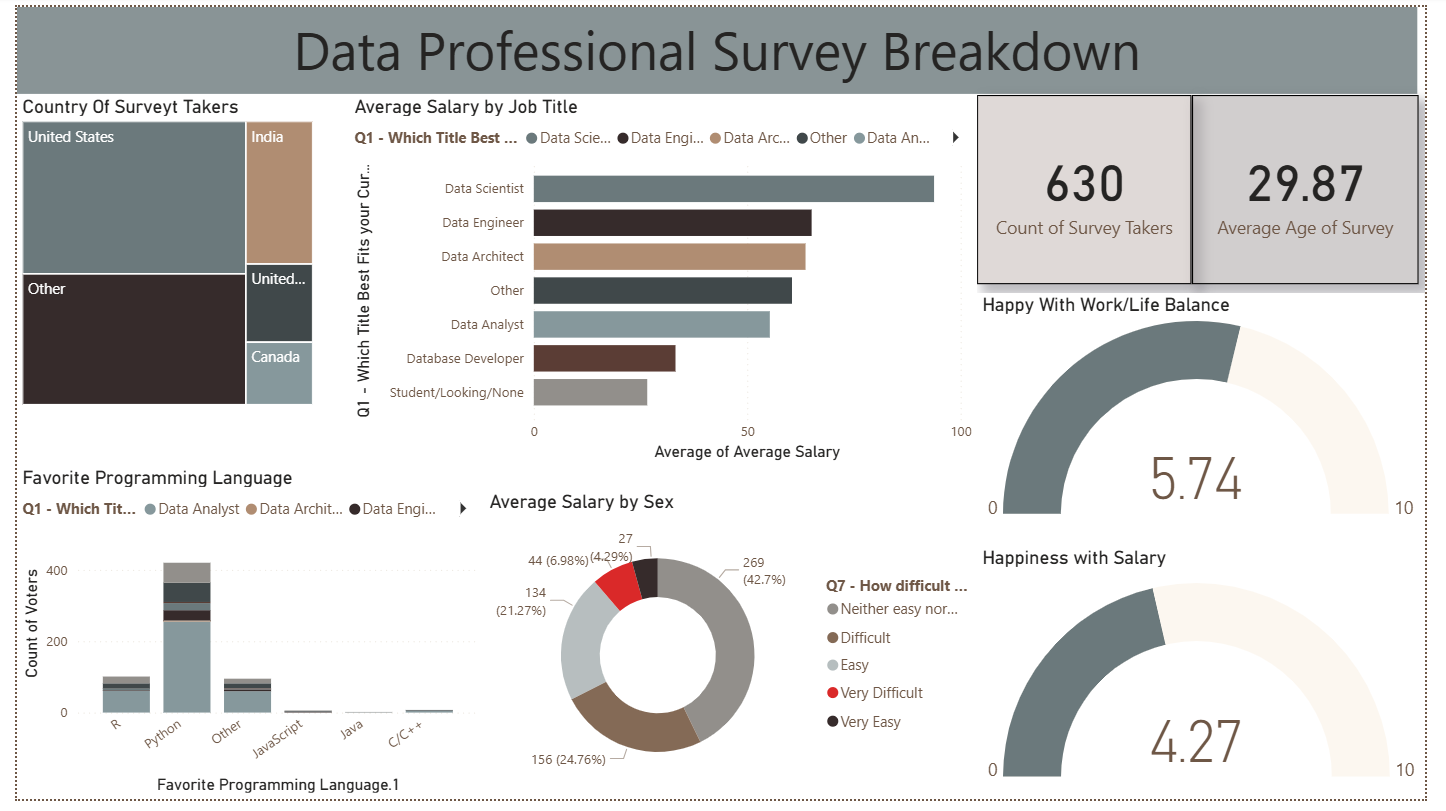

This screenshot's page, from the dashboard's own definition file:
{"tool":"powerbi","page":{"name":"Page 1","canvas":[1280,720],"ordinal":0},"visuals":[{"type":"textbox","box":[0,0,1272.7,79.4],"z":0},{"type":"card","fields":{"Values":["Count(Data Professional Survey.Unique ID)"]},"box":[872.4,79.6,195.3,171.9],"z":1000},{"type":"card","fields":{"Values":["Avg(Data Professional Survey.Q10 - Current Age)"]},"box":[1067.7,79.6,205.9,171.9],"z":2000},{"type":"barChart","title":"Average Salary by Job Title","fields":{"Category":["Data Professional Survey.Q1 - Which Title Best Fits your Current Role?.1"],"Y":["Avg(Data Professional Survey.Average Salary)"],"Series":["Data Professional Survey.Q1 - Which Title Best Fits your Current Role?.1"]},"box":[301.4,79.6,571,337.5],"z":3000},{"type":"columnChart","title":"Favorite Programming Language","fields":{"Category":["Data Professional Survey.Q5 - Favorite Programming Language.1"],"Y":["CountNonNull(Data Professional Survey.Unique ID)"],"Series":["Data Professional Survey.Q1 - Which Title Best Fits your Current Role?.1"]},"box":[0,417.1,424.5,302.5],"z":4000},{"type":"treemap","title":"Country Of Surveyt Takers","fields":{"Group":["Data Professional Survey.Q11 - Which Country do you live in?.1"],"Values":["CountNonNull(Data Professional Survey.Q11 - Which Country do you live in?.1)"]},"box":[0,79.6,273.8,286.6],"z":5000},{"type":"gauge","title":"Happy With Work/Life  Balance","fields":{"Y":["Avg(Data Professional Survey.Q6 - How Happy are you in your Current Position with the following? (Work/Life Balance))"],"MinValue":["Min(Data Professional Survey.Q6 - How Happy are you in your Current Position with the following? (Work/Life Balance))"],"MaxValue":["Max(Data Professional Survey.Q6 - How Happy are you in your Current Position with the following? (Work/Life Balance))1"]},"box":[872.4,260,406.5,212.3],"z":6000},{"type":"gauge","title":"Happiness with Salary","fields":{"Y":["Avg(Data Professional Survey.Q6 - How Happy are you in your Current Position with the following? (Salary))"],"MinValue":["Min(Data Professional Survey.Q6 - How Happy are you in your Current Position with the following? (Salary))"],"MaxValue":["Max(Data Professional Survey.Q6 - How Happy are you in your Current Position with the following? (Salary))"]},"box":[872.4,490.3,407.6,229.3],"z":7000},{"type":"donutChart","title":"Average Salary by Sex","fields":{"Category":["Data Professional Survey.Q7 - How difficult was it for you to break into Data?"],"Series":["Data Professional Survey.Q7 - How difficult was it for you to break into Data?"],"Y":["CountNonNull(Data Professional Survey.Q7 - How difficult was it for you to break into Data?)"]},"box":[424.5,439.4,447.9,281.3],"z":8000}]}

Visuals, with their boxes in screenshot pixels (x1, y1, x2, y2), scaled from the page's 1280x720 canvas onto the 1446x811 screenshot:
textbox: locate(0, 0, 1438, 89)
card - Count(Data Professional Survey.Unique ID): locate(986, 90, 1206, 283)
card - Avg(Data Professional Survey.Q10 - Current Age): locate(1206, 90, 1439, 283)
"Average Salary by Job Title" barChart: locate(340, 90, 986, 470)
"Favorite Programming Language" columnChart: locate(0, 470, 480, 810)
"Country Of Surveyt Takers" treemap: locate(0, 90, 309, 412)
"Happy With Work/Life  Balance" gauge: locate(986, 293, 1445, 532)
"Happiness with Salary" gauge: locate(986, 552, 1445, 810)
"Average Salary by Sex" donutChart: locate(480, 495, 986, 810)
